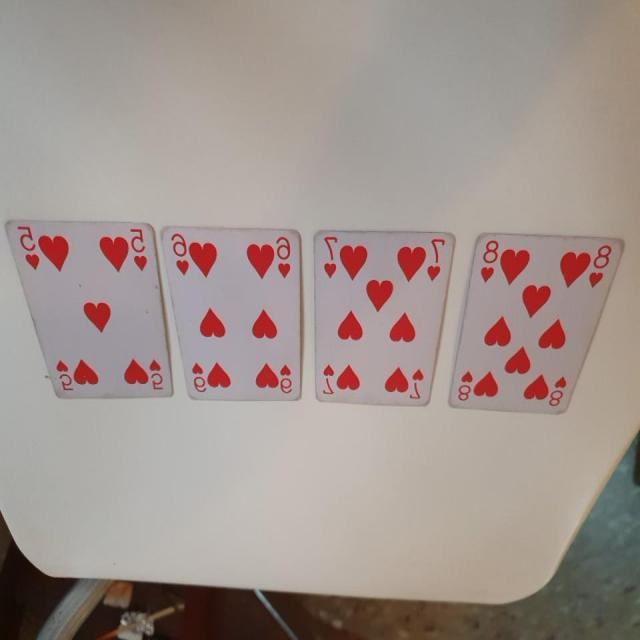5 of hearts: (4, 210, 182, 408)
6 of hearts: (160, 219, 306, 414)
7 of hearts: (312, 228, 462, 412)
8 of hearts: (446, 229, 628, 423)
